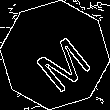M_NW: (22, 21, 88, 89)
